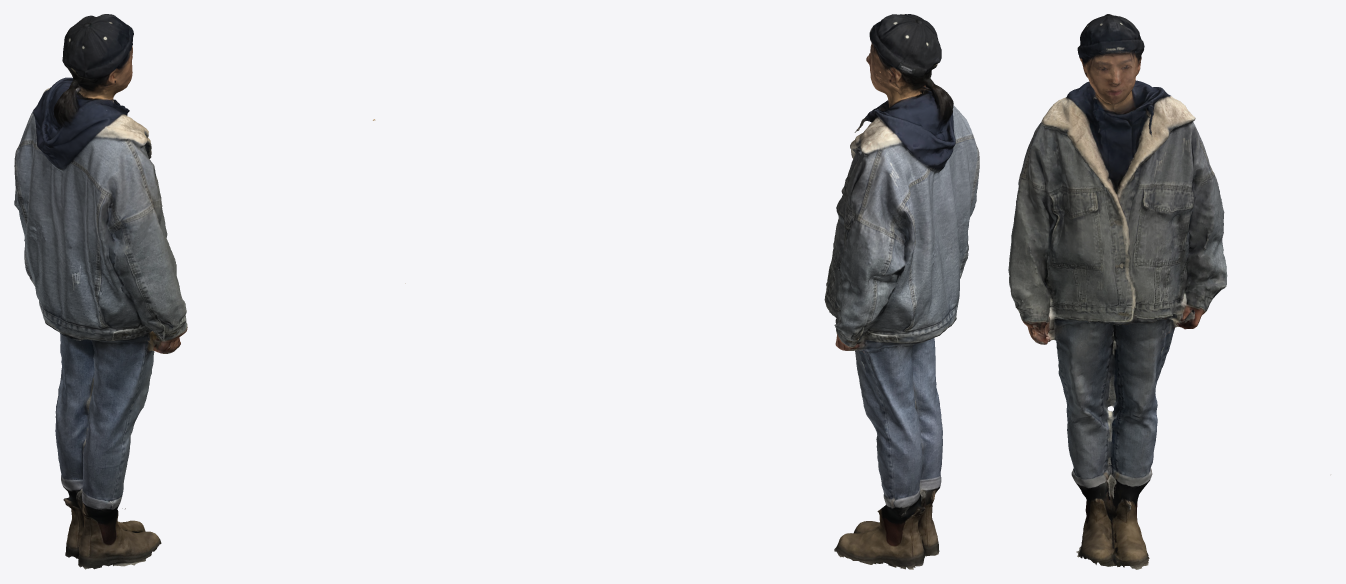
The model's file is 3Dmecolor.glb.
The picture shows the model from 3 angles, left to right: view 1: azimuth 30°, elevation 25°; view 2: azimuth 150°, elevation 25°; view 3: azimuth 270°, elevation 25°; orthographic projection. The views are drawn at different scales.
Parts seen in each view (by area): view 1: me; view 2: me; view 3: me.
Boxes of the visible parts, x1,y1,x2,y2 form: me: (14, 14, 375, 569); me: (405, 14, 979, 569); me: (1008, 14, 1227, 569).
Size of the model in its own units: 2.56 by 3 by 1.67.
1 material, 1 textured.
